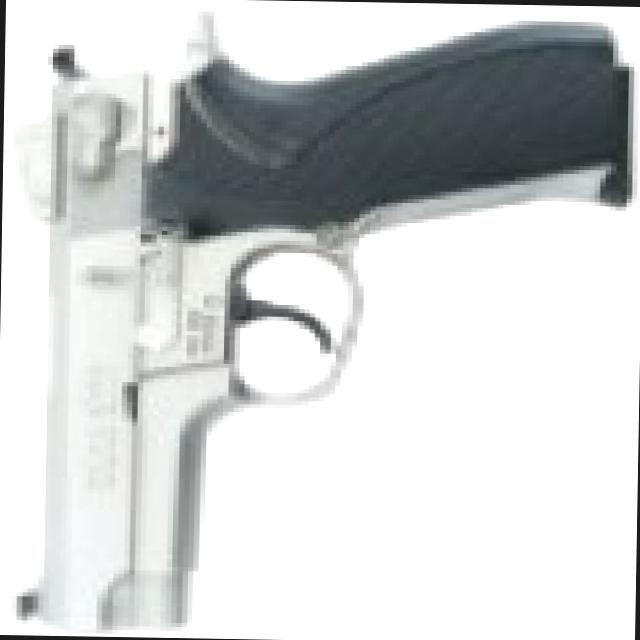handgun: (5, 18, 631, 639)
